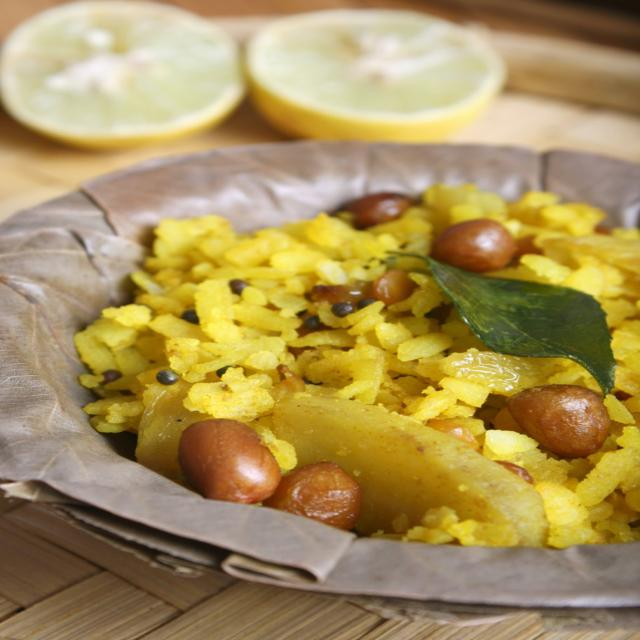POHA: (72, 181, 639, 544)
